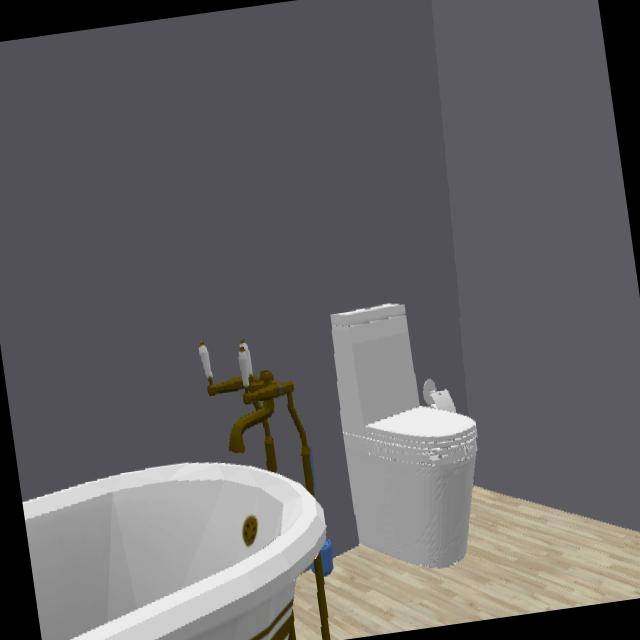bathtube: (23, 463, 326, 640)
toilet: (332, 305, 478, 565)
